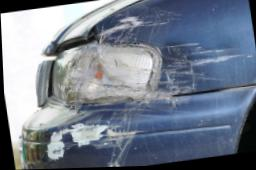Bonnet: (34, 0, 145, 57)
Bumper: (8, 84, 256, 170)
Fender: (93, 0, 256, 98)
